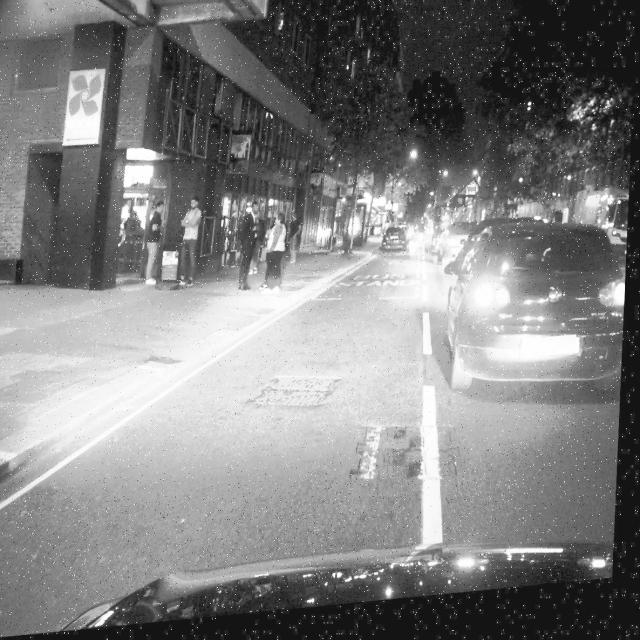Car: (447, 217, 624, 402)
Truck: (576, 198, 632, 285)
